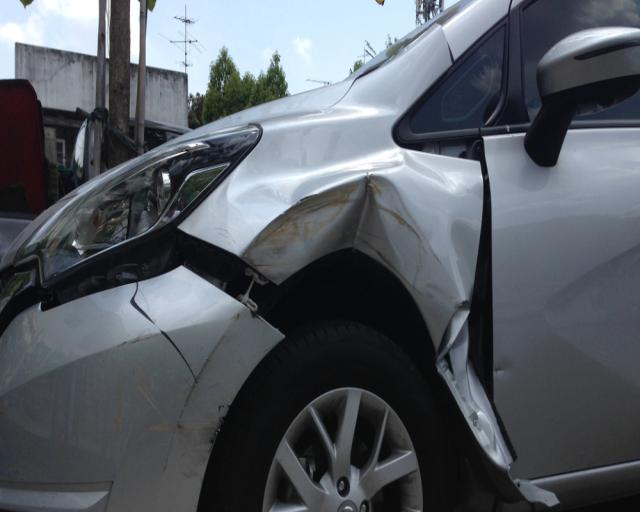dent: (229, 117, 404, 208), (438, 311, 510, 469), (312, 184, 403, 270), (365, 176, 428, 287), (450, 224, 479, 302)
scratch: (126, 280, 227, 488)
